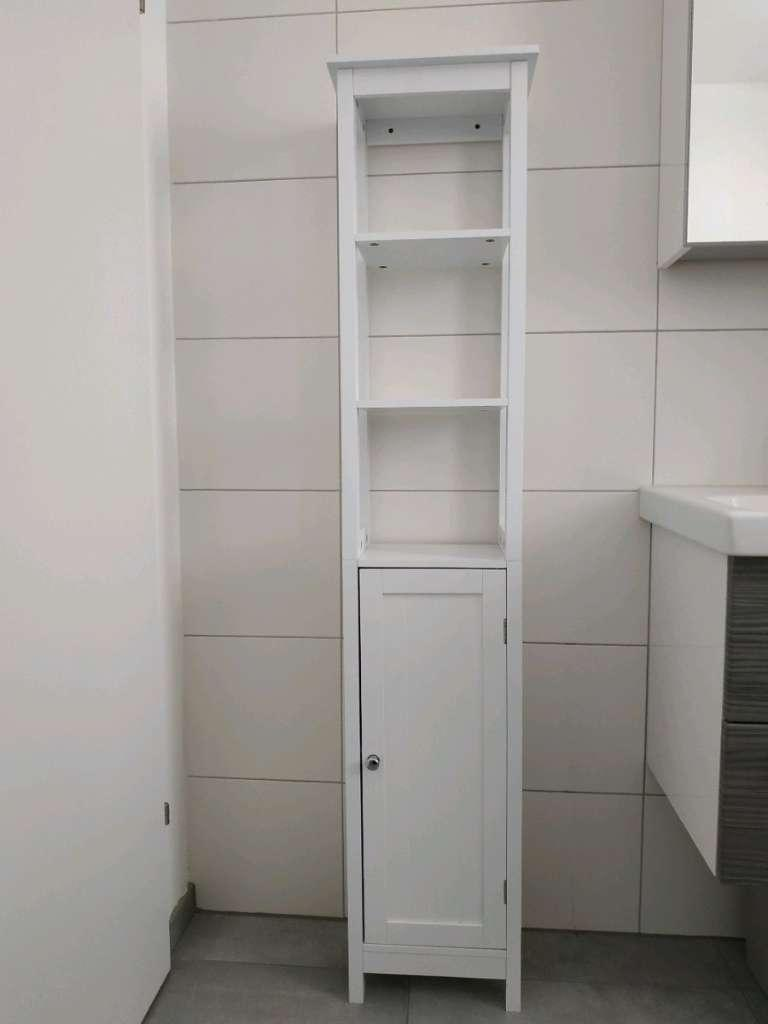cabinet_door: (366, 567, 514, 940)
handle: (365, 746, 385, 776)
